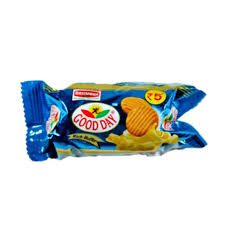gooday-small-5: (19, 78, 206, 159)
